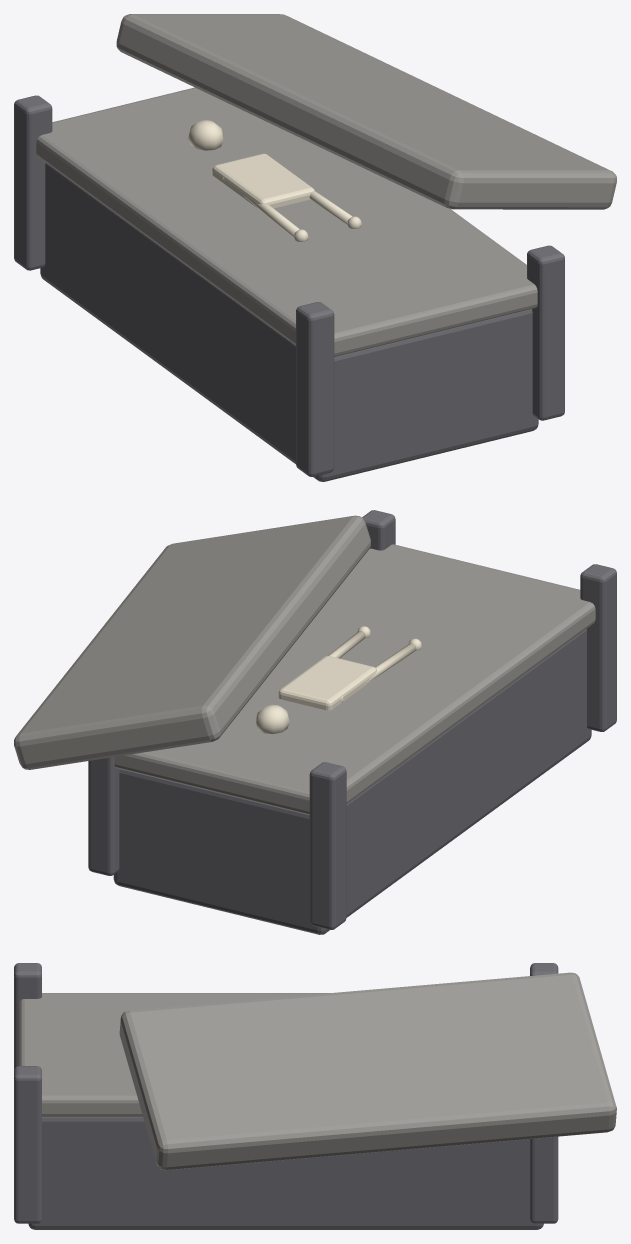
Rendered from sarcophagus_open_lid.glb.
3 renders of one model, top to bottom at view 1: azimuth 30°, elevation 25°; view 2: azimuth 150°, elevation 25°; view 3: azimuth 270°, elevation 25°, orthographic. The views are drawn at different scales.
Visible parts, largest first — view 1: GD_sarcophagus_open_lid__m1, GD_sarcophagus_open_lid__m0, GD_sarcophagus_open_lid__m2; view 2: GD_sarcophagus_open_lid__m1, GD_sarcophagus_open_lid__m0, GD_sarcophagus_open_lid__m2; view 3: GD_sarcophagus_open_lid__m1, GD_sarcophagus_open_lid__m0.
Part boxes in pixels (box(x1,y1,x2,y2)): GD_sarcophagus_open_lid__m1: box(36, 14, 616, 356); GD_sarcophagus_open_lid__m0: box(14, 95, 564, 481); GD_sarcophagus_open_lid__m2: box(188, 120, 361, 241); GD_sarcophagus_open_lid__m1: box(14, 515, 595, 814); GD_sarcophagus_open_lid__m0: box(88, 510, 616, 934); GD_sarcophagus_open_lid__m2: box(255, 626, 421, 733); GD_sarcophagus_open_lid__m1: box(18, 972, 616, 1170); GD_sarcophagus_open_lid__m0: box(14, 963, 558, 1229).
Size of the model in its own units: 1.75 by 0.9784 by 2.57.
